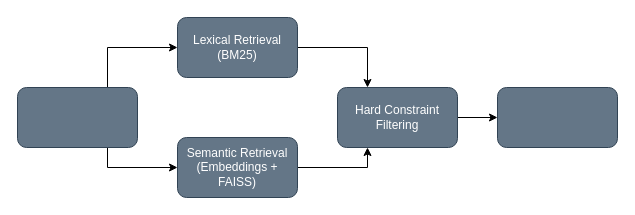
Image size: 635x215. Some labels were removed from this diagram. Each missing label, with the centre of its shape:
"Feature-Based Ranking" goes at point 557,117.
"LLM-Based Query Parsing" goes at point 77,117.
